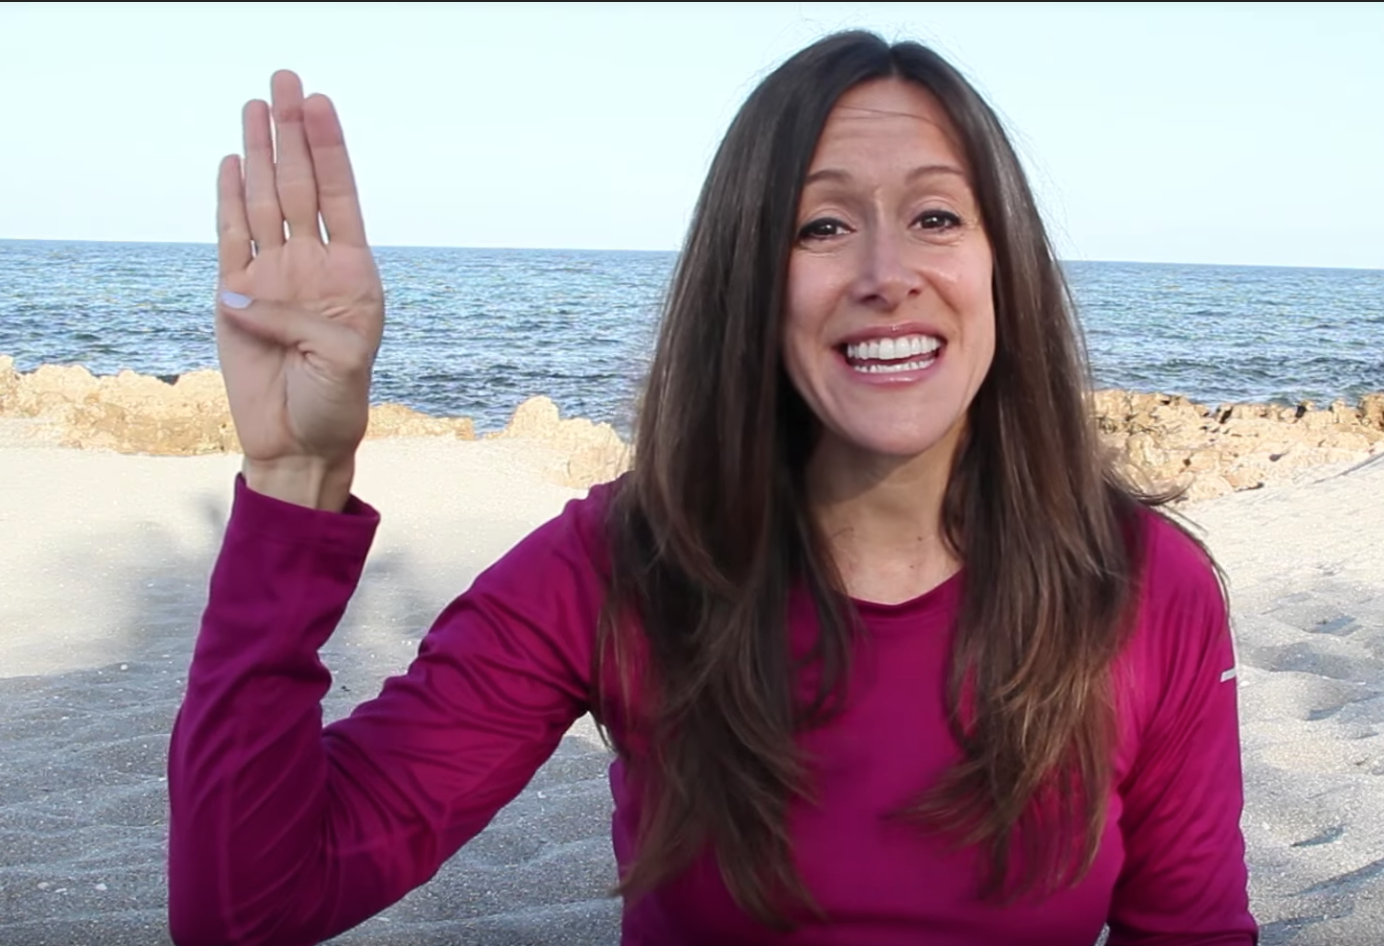b: (200, 52, 421, 471)
